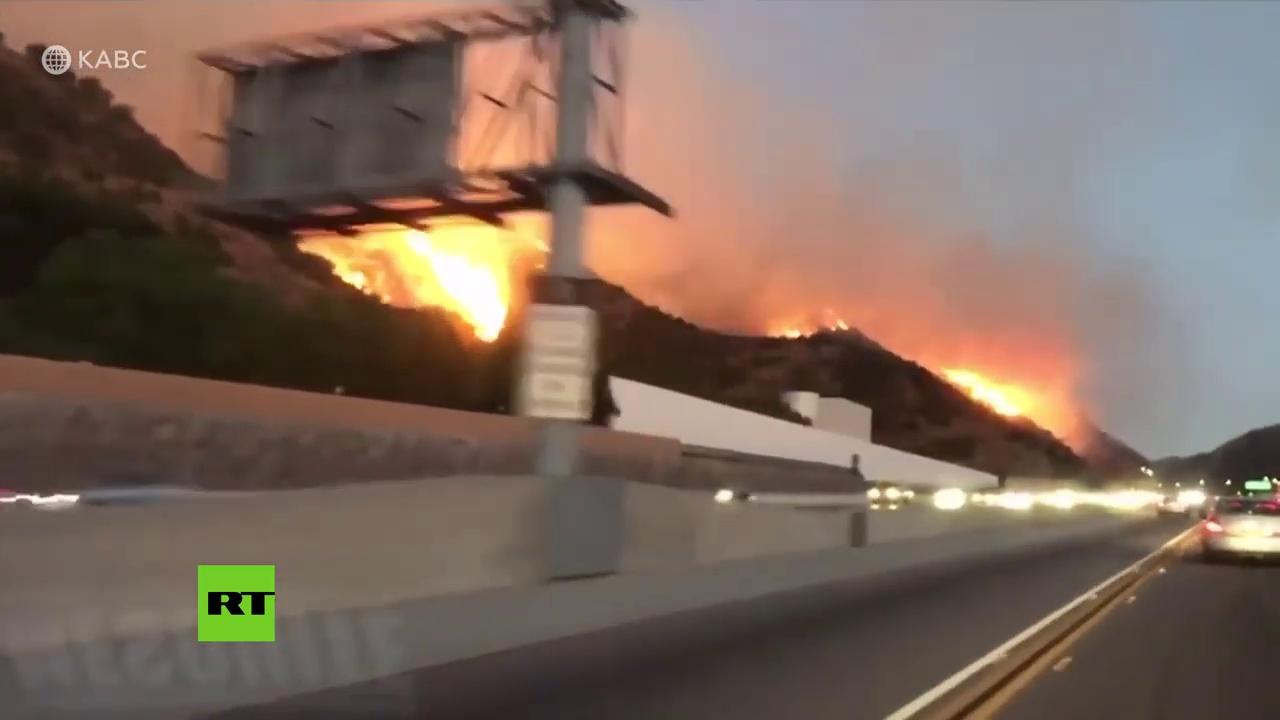Fire: (323, 229, 516, 341), (941, 360, 1045, 422), (761, 315, 807, 340), (827, 321, 849, 336)
